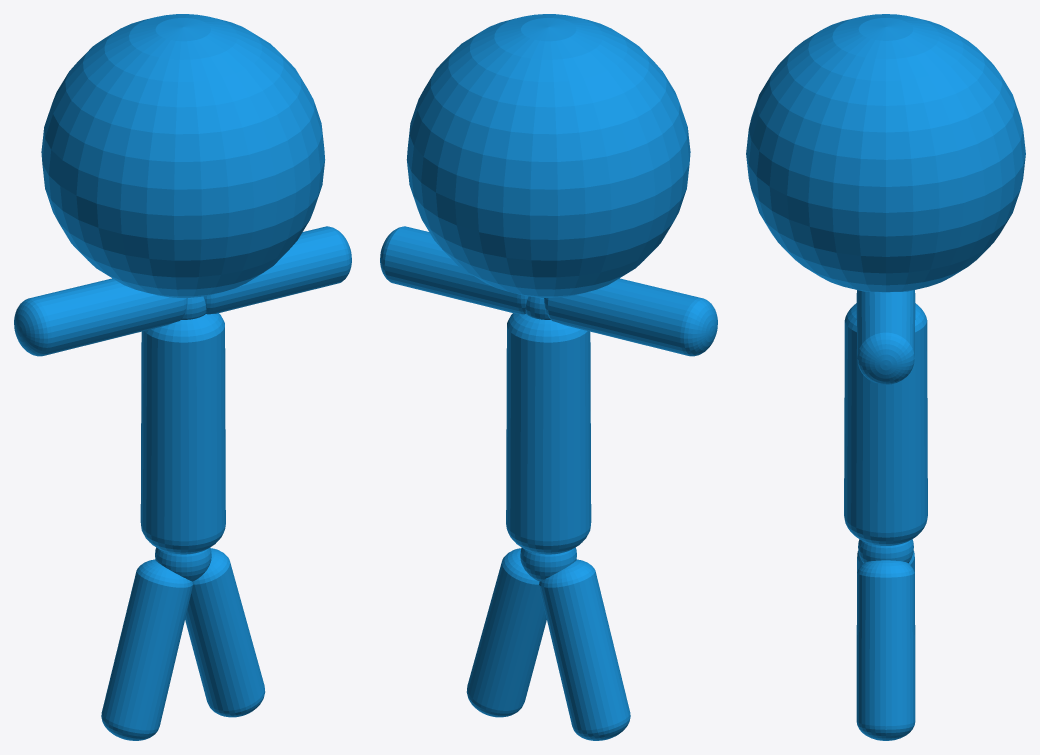
3 views of the same model, side by side, from view 1: azimuth 30°, elevation 25°; view 2: azimuth 150°, elevation 25°; view 3: azimuth 270°, elevation 25° (orthographic).
Visible parts, largest first — view 1: Sphere; view 2: Sphere; view 3: Sphere.
Boxes of the visible parts, box(x1,y1,x2,y2) form: Sphere: box(14, 14, 351, 740); Sphere: box(380, 14, 717, 740); Sphere: box(746, 14, 1025, 740).
Bounding box in the file's own units: 0.531 × 1.08 × 0.4.
